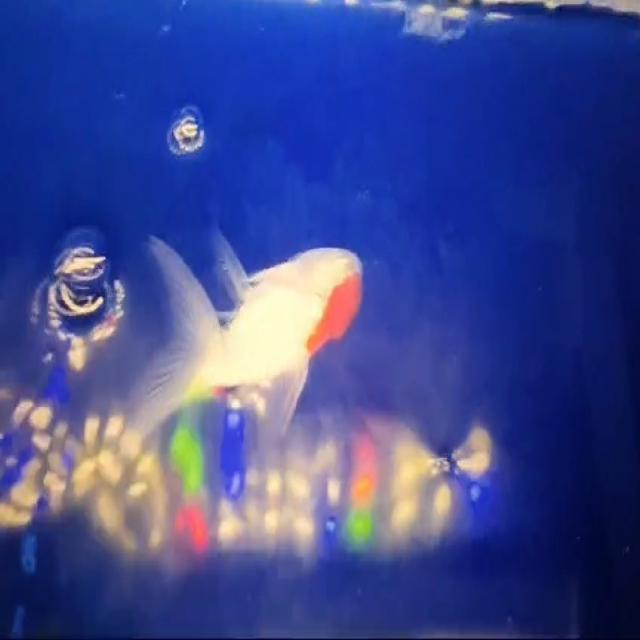fish: (138, 201, 371, 442)
